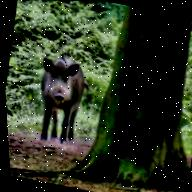boar: (15, 42, 97, 156)
